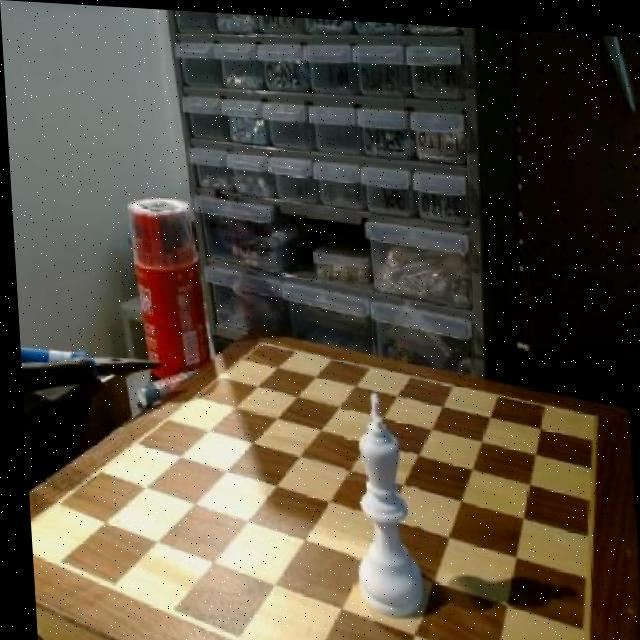white-bishop: (336, 383, 421, 621)
